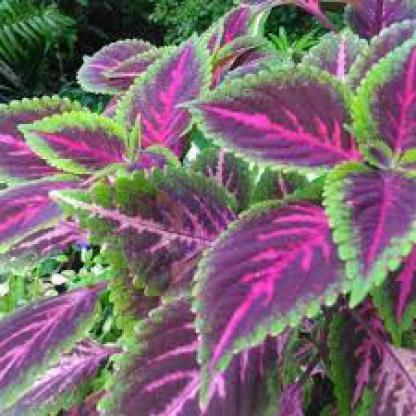Bunga Coleus: (34, 33, 386, 391)
